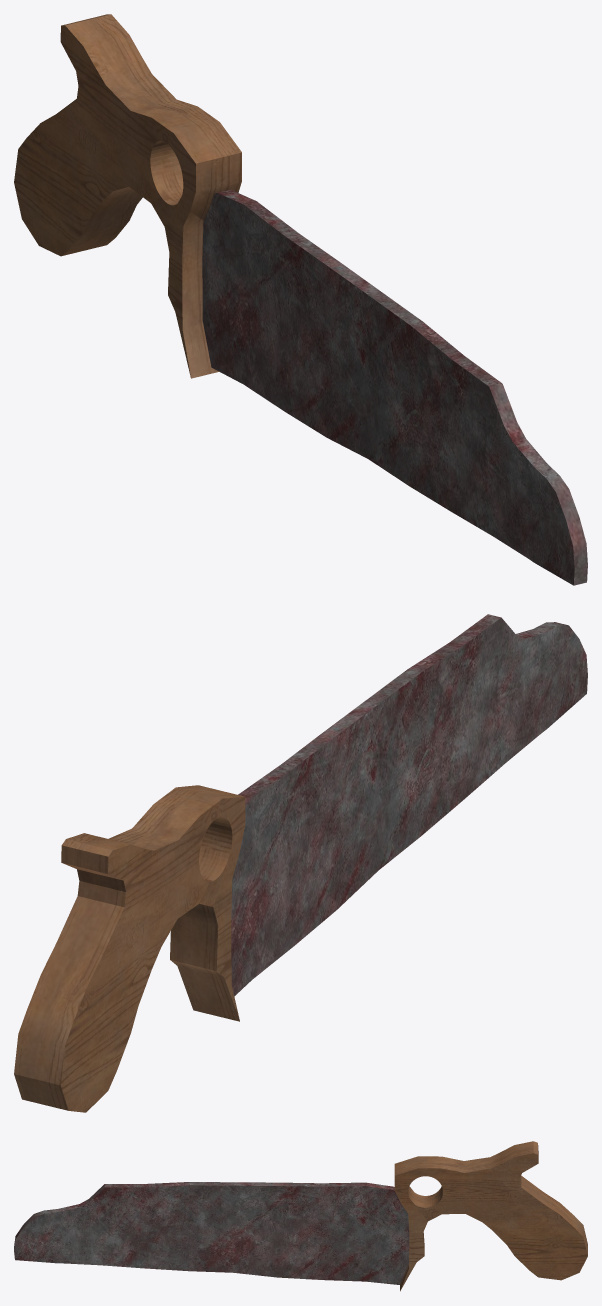
The model's file is bloody_saw.glb.
3 views of the same model, one above another, from view 1: azimuth 30°, elevation 25°; view 2: azimuth 150°, elevation 25°; view 3: azimuth 270°, elevation 25° (orthographic). The views are drawn at different scales.
Parts seen in each view (by area): view 1: pCube7 (×2); view 2: pCube7 (×2); view 3: pCube7 (×2).
Part boxes in pixels (box(x1,y1,x2,y2)): pCube7 (×2): box(14, 14, 587, 585); pCube7 (×2): box(14, 614, 587, 1112); pCube7 (×2): box(14, 1141, 587, 1291).
Bounding box in the file's own units: 0.0987 × 0.5331 × 2.
Materials: 2 (2 with a texture image).
